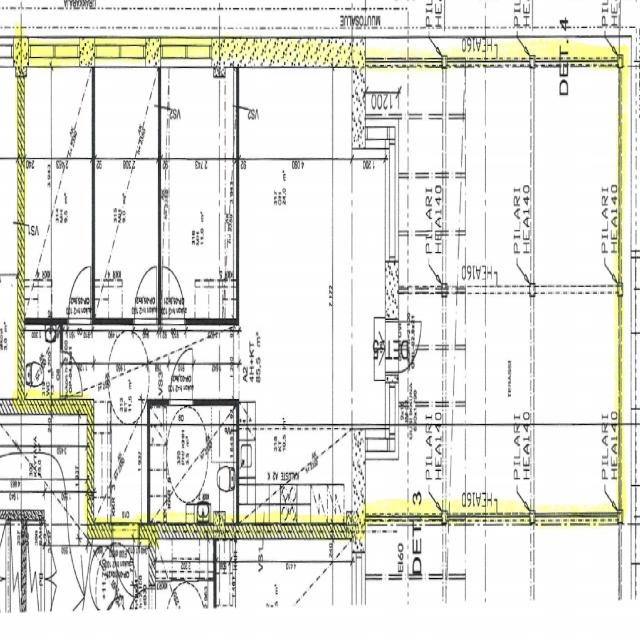door: (113, 522, 138, 596), (385, 321, 420, 372), (134, 265, 157, 324), (170, 346, 192, 406), (68, 265, 90, 324), (162, 265, 184, 324), (60, 351, 82, 396)
